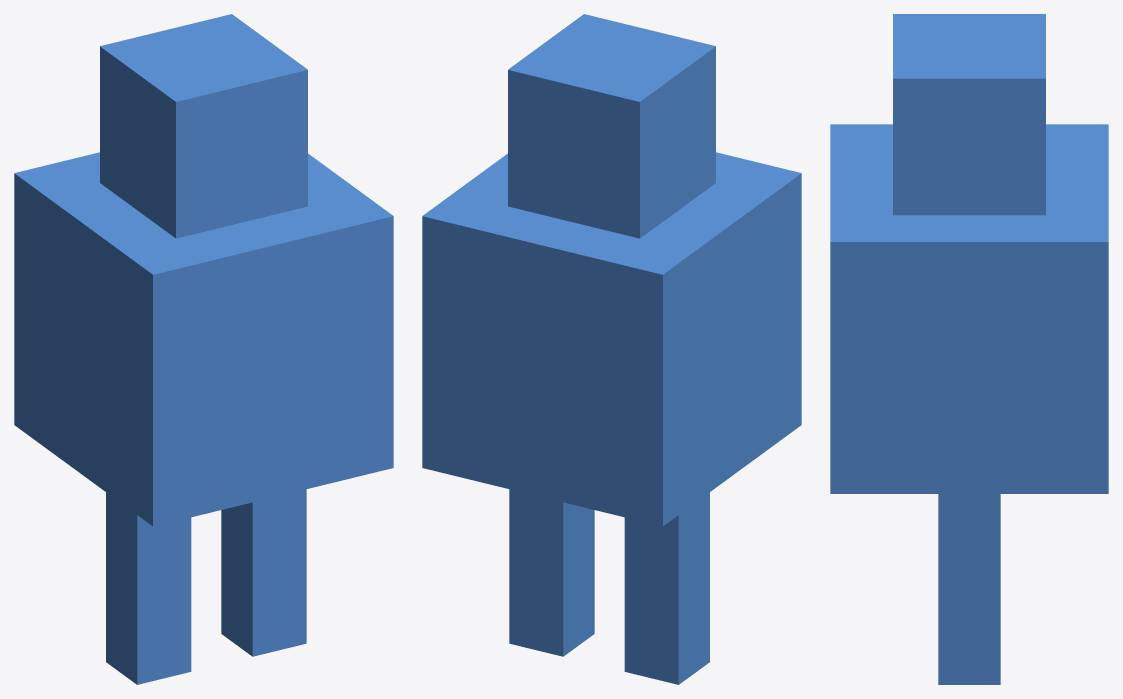
The model's file is sample.fbx.
3 views of the same model, side by side, from view 1: azimuth 30°, elevation 25°; view 2: azimuth 150°, elevation 25°; view 3: azimuth 270°, elevation 25° (orthographic).
Visible parts, largest first — view 1: Cube; view 2: Cube; view 3: Cube.
Part boxes in pixels (x1,y1,x2,y2): Cube: (14,14,393,684); Cube: (422,14,801,684); Cube: (830,14,1108,684).
Size of the model in its own units: 200 by 473 by 200.
